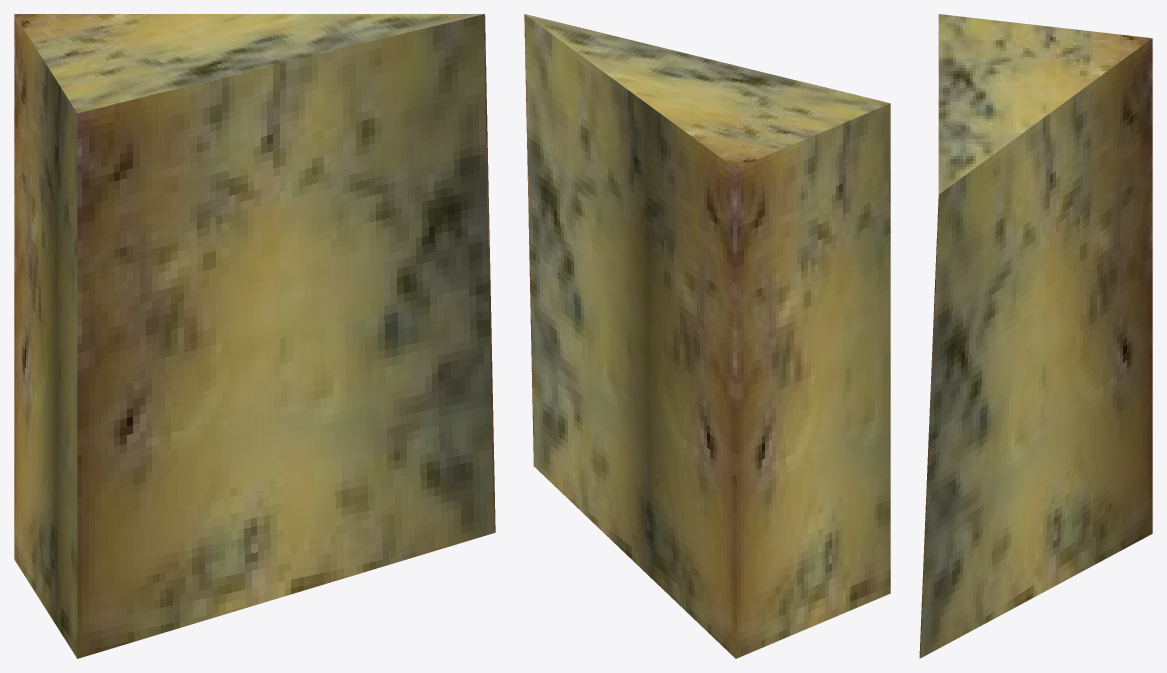
The model's file is cheese.glb.
3 renders of one model, left to right at view 1: azimuth 30°, elevation 25°; view 2: azimuth 150°, elevation 25°; view 3: azimuth 270°, elevation 25°, orthographic. The views are drawn at different scales.
Parts seen in each view (by area): view 1: cheese.ms3d.mo; view 2: cheese.ms3d.mo; view 3: cheese.ms3d.mo.
Part boxes in pixels (box(x1,y1,x2,y2)): cheese.ms3d.mo: box(14, 14, 495, 658); cheese.ms3d.mo: box(524, 14, 890, 658); cheese.ms3d.mo: box(919, 14, 1152, 658).
Bounding box in the file's own units: 8.38 × 10.71 × 4.56.
Materials: 1 (1 with a texture image).
